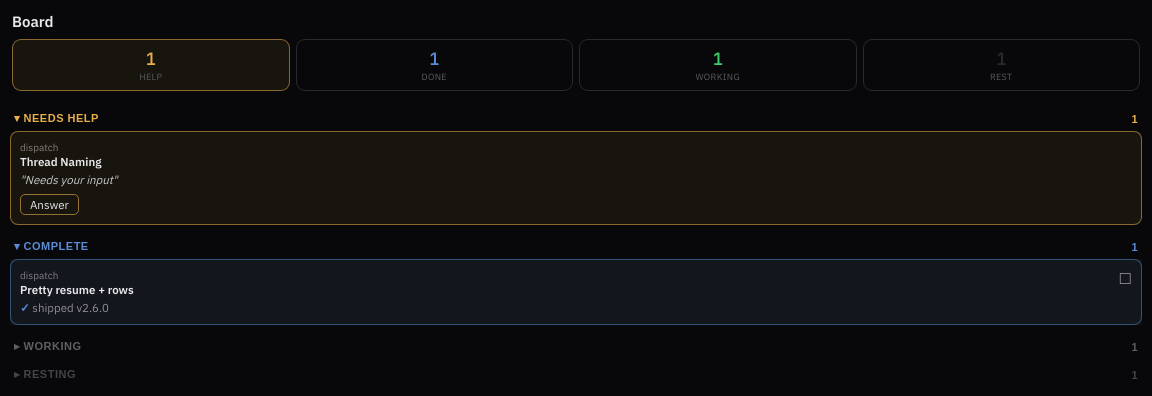
BoardMobile — tapping a header toggles expansion › tapping the expanded Needs Help header collapses it, hiding its card
Expected: the text "Thread Naming" is shown, [20,154,102,169]
Click the button with test id "board-section-toggle-needs_help" at [61, 118], box [10,103,1142,131]
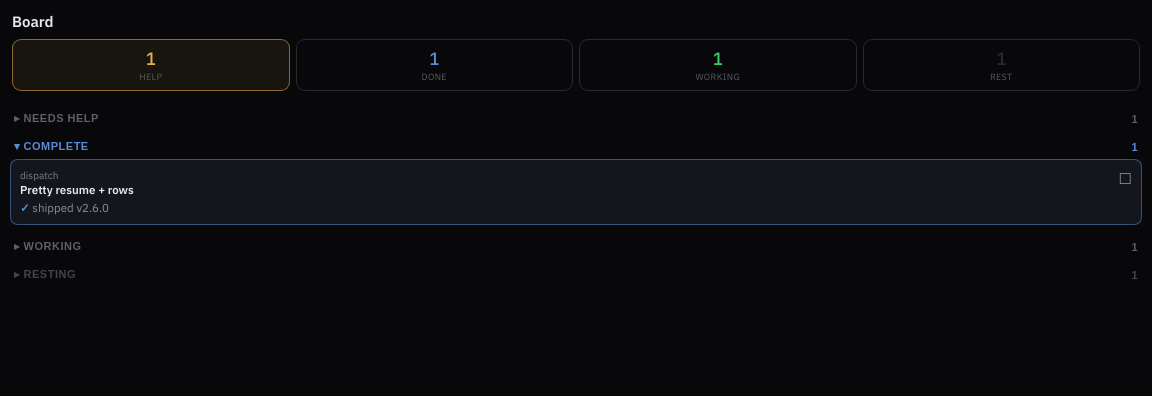
Expected: the text "Thread Naming" is gone
